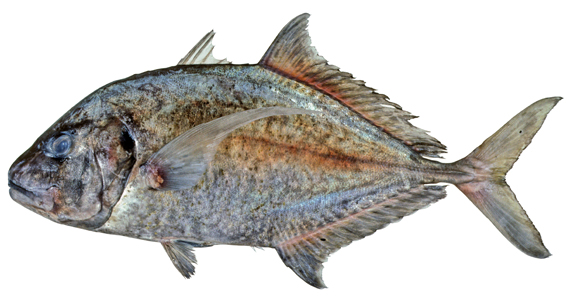fish: (8, 14, 562, 288)
